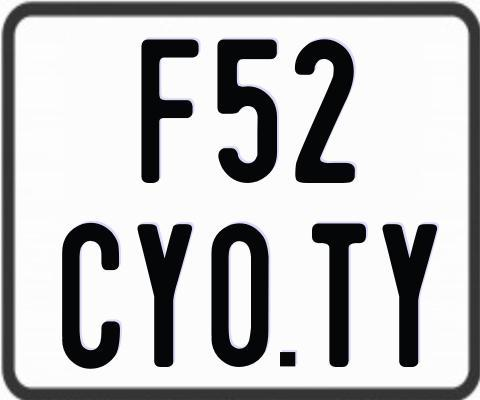0: (211, 223, 270, 372)
2: (294, 39, 360, 189)
5: (214, 37, 277, 183)
C: (60, 223, 119, 375)
F: (141, 37, 204, 186)
T: (309, 223, 363, 370)
Y: (138, 221, 198, 367), (380, 221, 437, 368)
